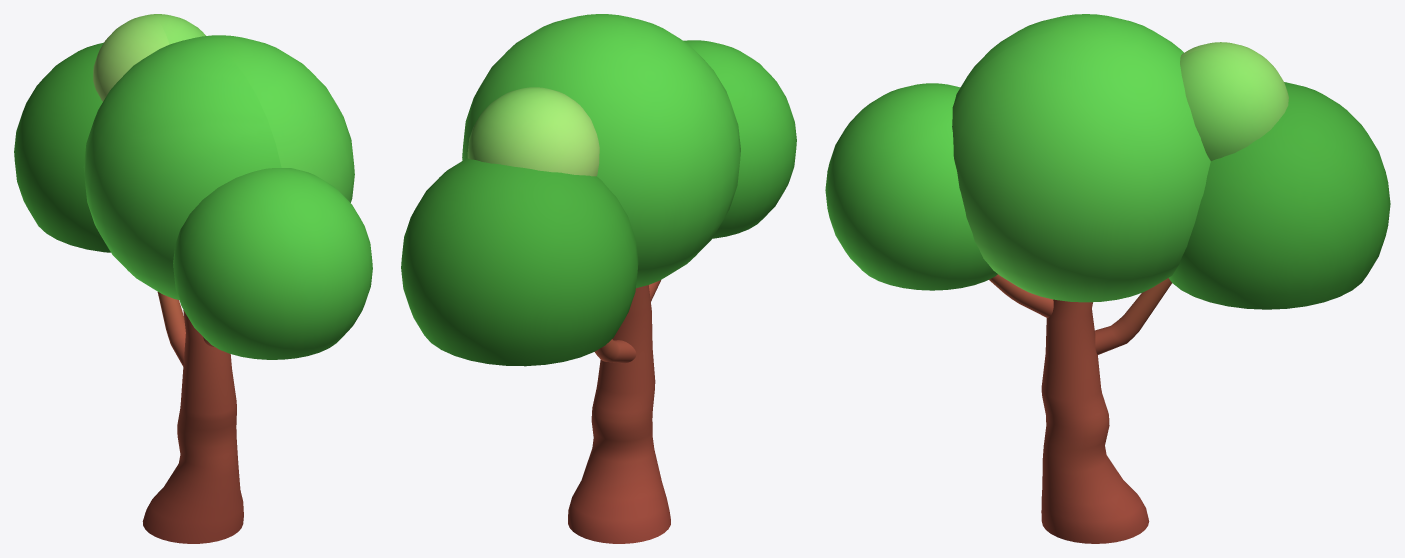
File: Tree.fbx
3 views of the same model, side by side, from view 1: azimuth 30°, elevation 25°; view 2: azimuth 150°, elevation 25°; view 3: azimuth 270°, elevation 25° (orthographic). The views are drawn at different scales.
Parts seen in each view (by area): view 1: Cylinder.003; view 2: Cylinder.003; view 3: Cylinder.003.
Part boxes in pixels (box(x1,y1,x2,y2)): Cylinder.003: box(14, 14, 372, 543); Cylinder.003: box(401, 14, 796, 543); Cylinder.003: box(825, 14, 1390, 543).
Bounding box in the file's own units: 6050 × 11617 × 11777.
